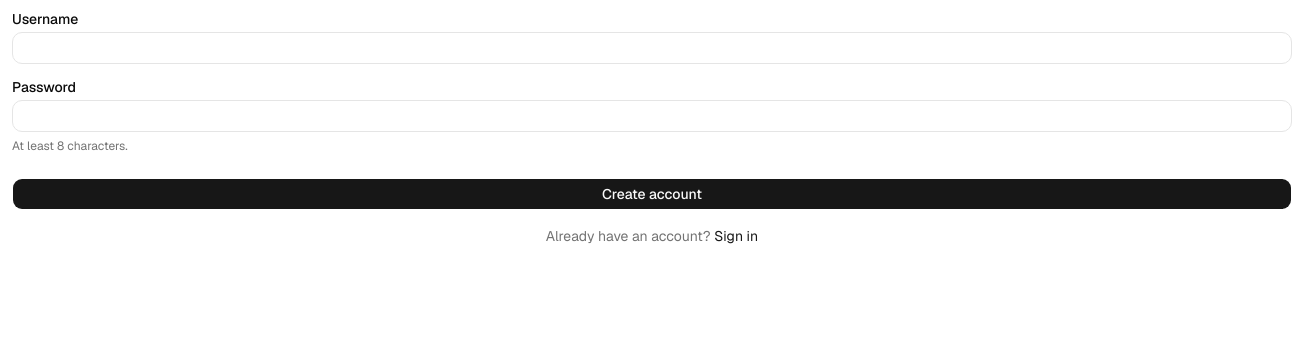
RegisterForm › other errors › renders network/500 error with fallback message
Type "testuser" into the field labelled "Username" at (652, 48), box [12, 32, 1292, 64]
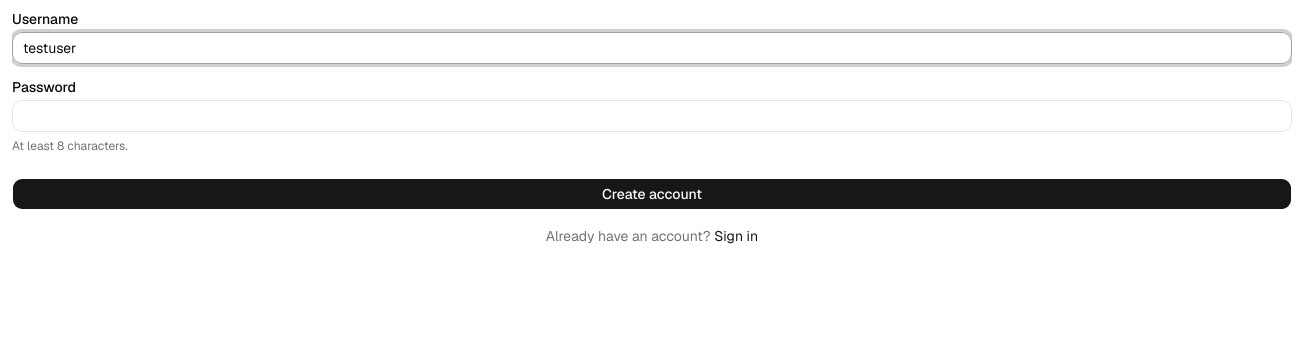
Type "password123" into the password field labelled "Password" at (652, 116), box [12, 100, 1292, 132]
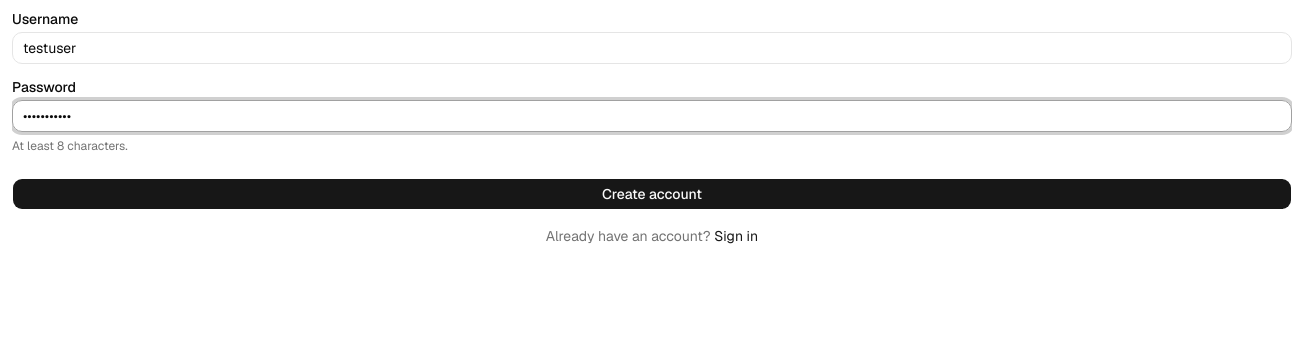
Click the button "Create account" at (652, 194), box [12, 178, 1292, 210]
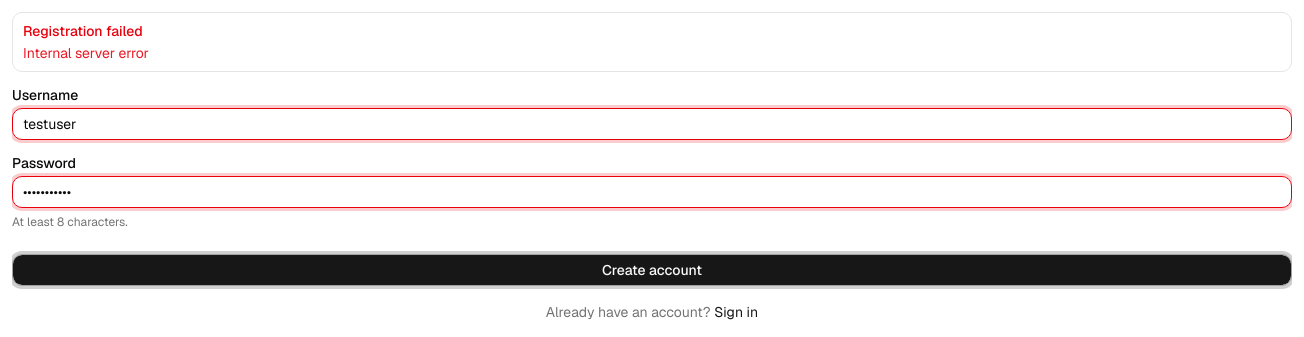
Now the text "Internal server error" is shown, box [23, 44, 149, 62]
